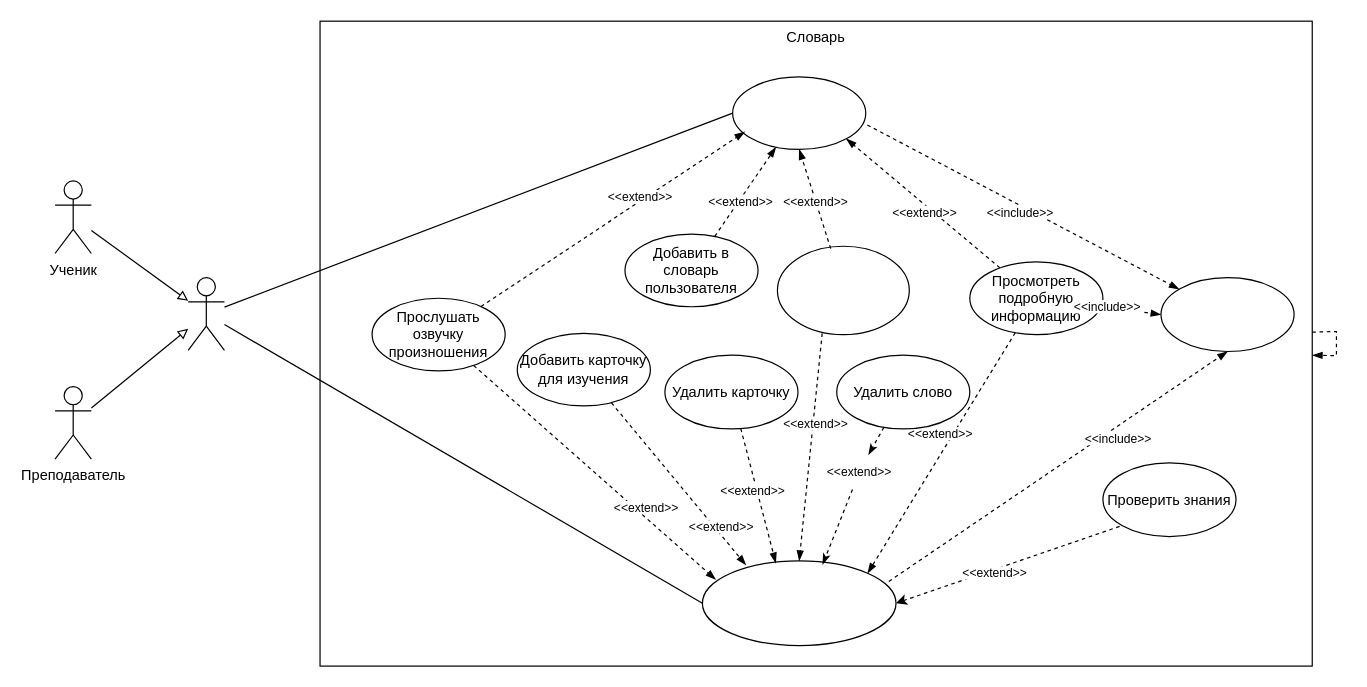
The diagram is 1367 pixels wide and 687 high, and some of its shapes have lost their labels. Each missing label, with the box of its shape:
Найти слово в словаре: (731, 76, 866, 149)
Пользователь: (187, 276, 224, 350)
Посмотреть видео с новым словом: (776, 245, 909, 335)
Просмотреть перевод: (1160, 276, 1294, 352)
Просмотреть список слов в словаре пользователя: (701, 560, 896, 646)
